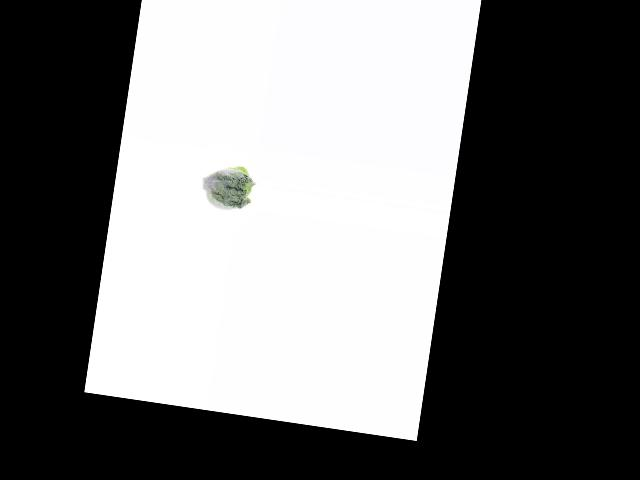lettuce: (198, 159, 257, 214)
